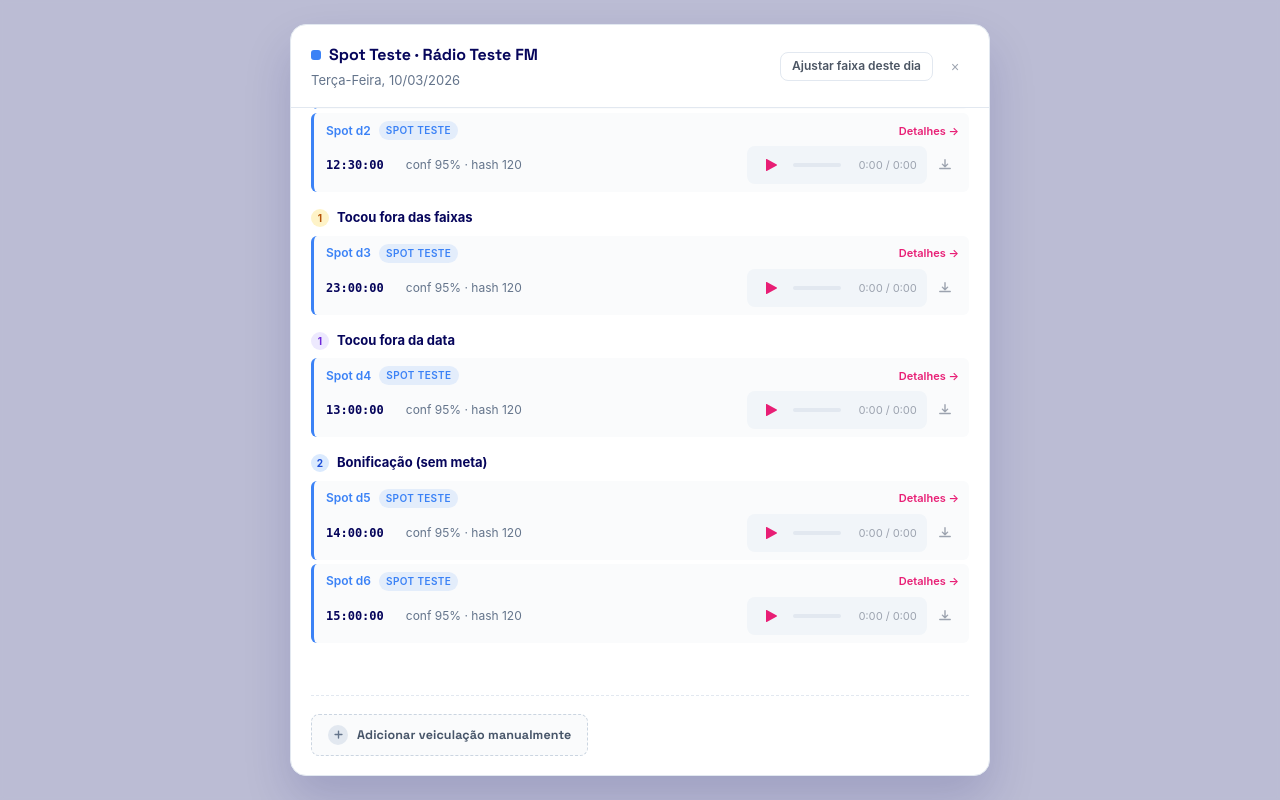
it: DayDetailModal — inserção manual em lote (admin) › plural do botão Salvar é "veiculações"
(page scrolled)
Click the button "Adicionar veiculação manualmente".
click(450, 735)  # box [311,714,588,756]
(page scrolled)
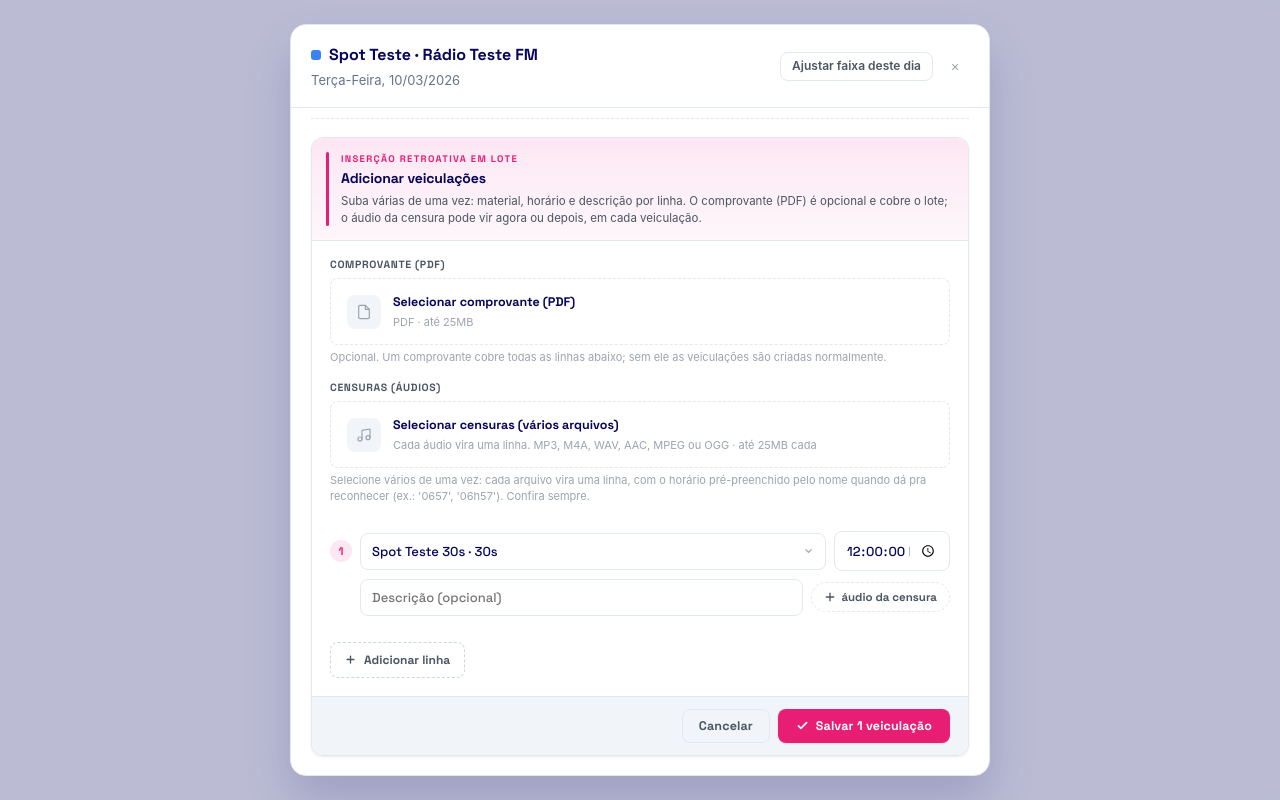
Expected: the text "Adicionar veiculações" is shown, [341,169,486,187]
Click the button "Adicionar linha".
click(398, 660)  # box [330,642,465,678]
(page scrolled)
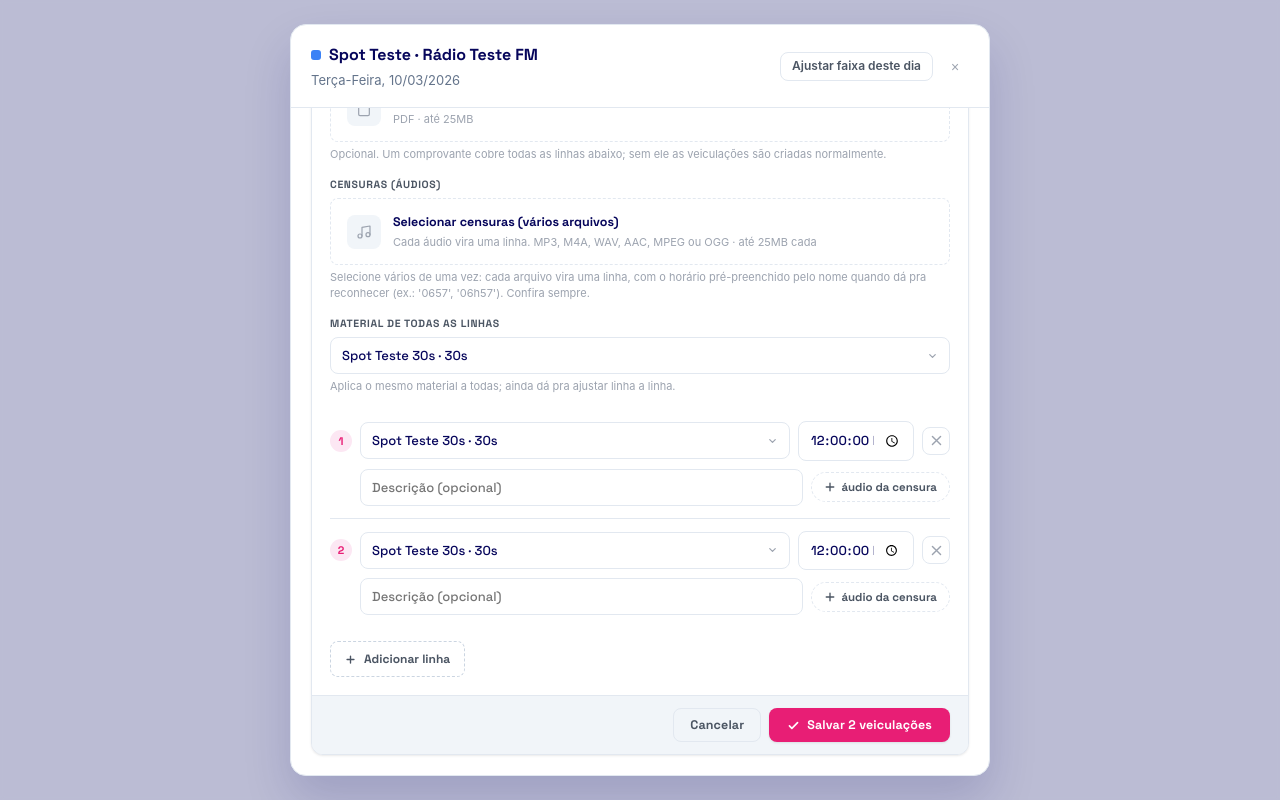
Expected: the button "Salvar 2 veiculações" is shown, [769,708,950,742]
